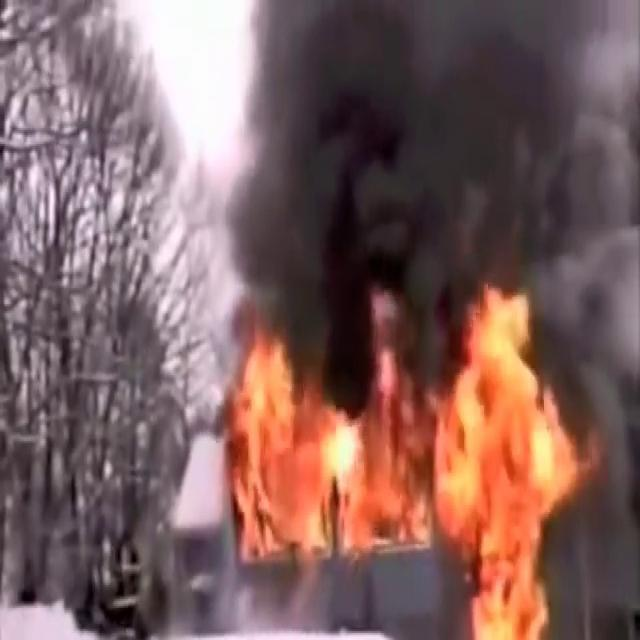Fire: (214, 278, 592, 620)
Smoke: (203, 0, 640, 352)
